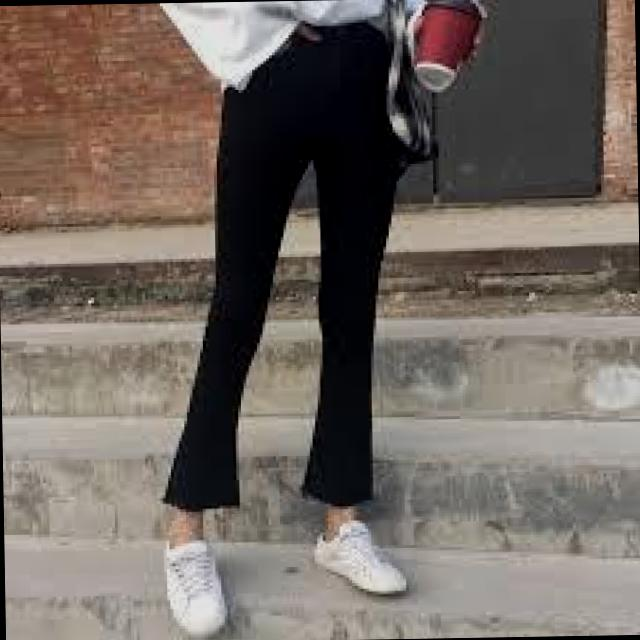pants: (162, 28, 418, 524)
